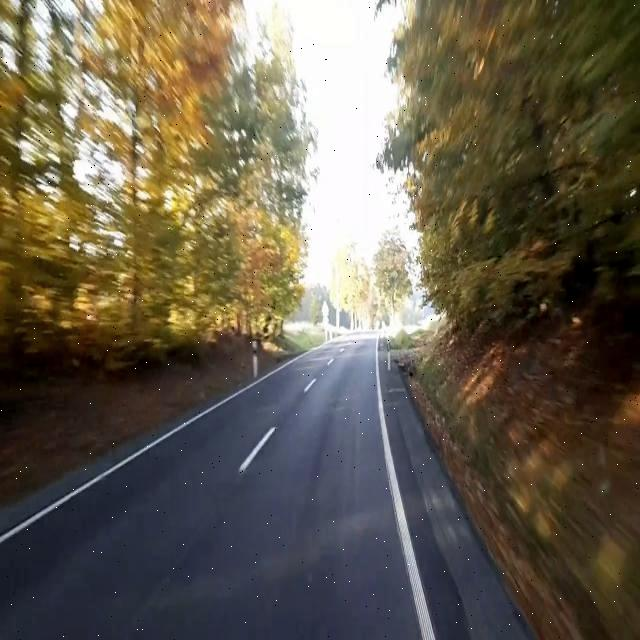lane: (2, 348, 319, 543), (375, 338, 435, 639), (239, 426, 276, 472)
road: (0, 335, 421, 639), (379, 354, 533, 639)
